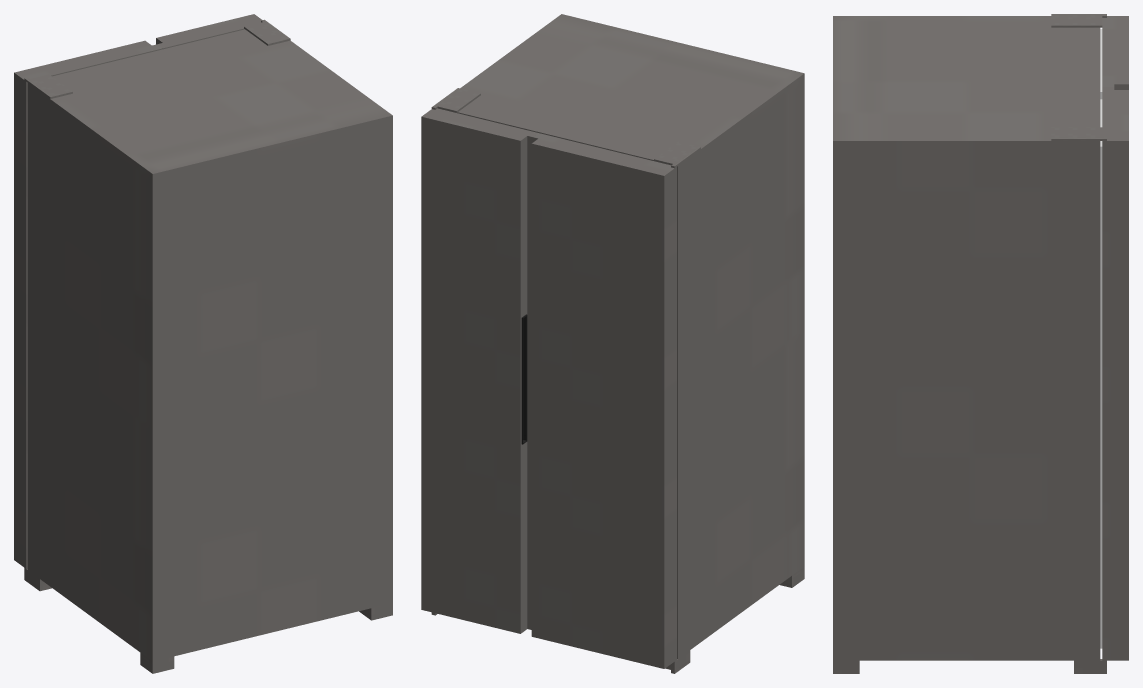
Rendered from Refrigerator03.glb.
3 renders of one model, left to right at view 1: azimuth 30°, elevation 25°; view 2: azimuth 150°, elevation 25°; view 3: azimuth 270°, elevation 25°, orthographic. The views are drawn at different scales.
Parts seen in each view (by area): view 1: Refrigerator03_model, Refrigerator03_Door01, Refrigerator03_Door02; view 2: Refrigerator03_model, Refrigerator03_Door01, Refrigerator03_Door02; view 3: Refrigerator03_model, Refrigerator03_Door02, Refrigerator03_Door01.
Part boxes in pixels (x1=…): Refrigerator03_model: x1=24, y1=19, x2=392, y2=673; Refrigerator03_Door01: x1=14, y1=40, x2=162, y2=568; Refrigerator03_Door02: x1=156, y1=14, x2=262, y2=49; Refrigerator03_model: x1=431, y1=14, x2=804, y2=673; Refrigerator03_Door01: x1=531, y1=133, x2=676, y2=668; Refrigerator03_Door02: x1=421, y1=108, x2=538, y2=633; Refrigerator03_model: x1=833, y1=14, x2=1106, y2=673; Refrigerator03_Door02: x1=1100, y1=87, x2=1128, y2=660; Refrigerator03_Door01: x1=1100, y1=16, x2=1128, y2=99.
Bounding box in the file's own units: 2.04 × 4.08 × 2.04.
Materials: 1 (1 with a texture image).
